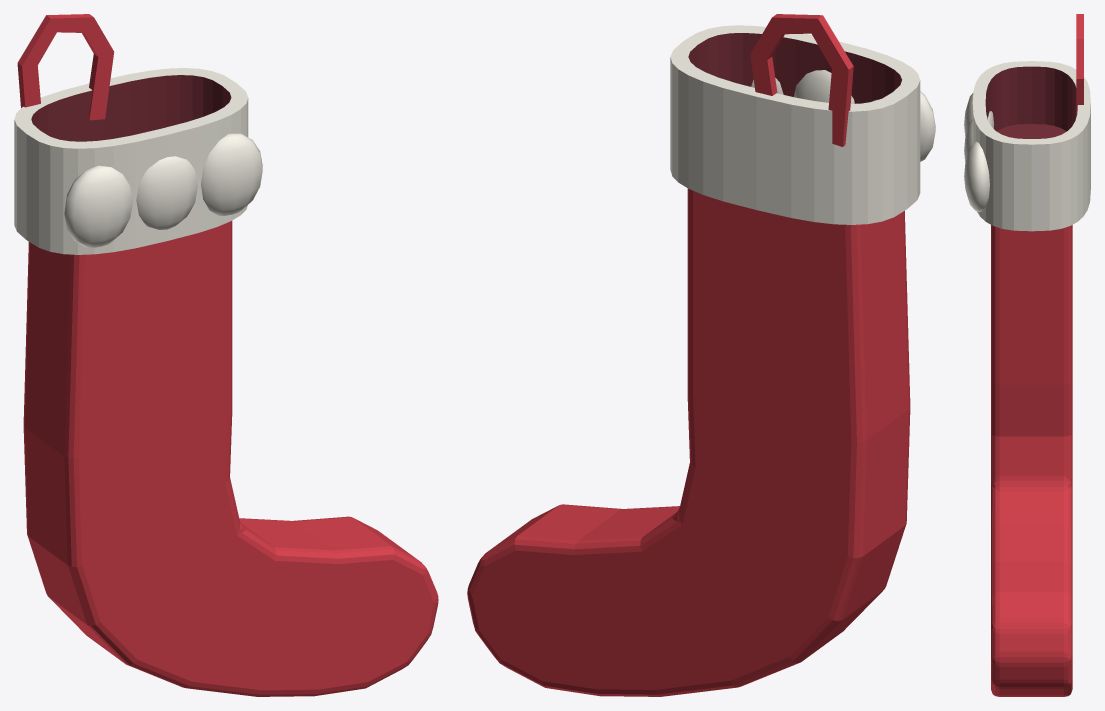
The model's file is christmas_stocking_classic_red.glb.
The picture shows the model from 3 angles, left to right: view 1: azimuth 30°, elevation 25°; view 2: azimuth 150°, elevation 25°; view 3: azimuth 270°, elevation 25°; orthographic projection. The views are drawn at different scales.
Parts seen in each view (by area): view 1: ClassicStocking_Rounded_Boot, ClassicStocking_Open_Cuff, ClassicStocking_Soft_Cuff_Tuft, ClassicStocking_Attached_Hanging_Loop, ClassicStocking_Soft_Cuff_Tuft.002, ClassicStocking_Soft_Cuff_Tuft.001; view 2: ClassicStocking_Rounded_Boot, ClassicStocking_Open_Cuff, ClassicStocking_Attached_Hanging_Loop, ClassicStocking_Soft_Cuff_Tuft.001, ClassicStocking_Soft_Cuff_Tuft; view 3: ClassicStocking_Rounded_Boot, ClassicStocking_Open_Cuff, ClassicStocking_Soft_Cuff_Tuft.002, ClassicStocking_Recessed_Interior, ClassicStocking_Attached_Hanging_Loop, ClassicStocking_Soft_Cuff_Tuft, ClassicStocking_Soft_Cuff_Tuft.001.
Boxes of the visible parts, x1,y1,x2,y2 form: ClassicStocking_Rounded_Boot: [23, 221, 438, 696]; ClassicStocking_Open_Cuff: [14, 68, 248, 254]; ClassicStocking_Soft_Cuff_Tuft: [64, 165, 132, 247]; ClassicStocking_Attached_Hanging_Loop: [17, 14, 114, 120]; ClassicStocking_Soft_Cuff_Tuft.002: [201, 133, 262, 215]; ClassicStocking_Soft_Cuff_Tuft.001: [136, 156, 197, 229]; ClassicStocking_Rounded_Boot: [467, 188, 910, 696]; ClassicStocking_Open_Cuff: [670, 25, 920, 224]; ClassicStocking_Attached_Hanging_Loop: [750, 14, 853, 146]; ClassicStocking_Soft_Cuff_Tuft.001: [794, 70, 854, 103]; ClassicStocking_Soft_Cuff_Tuft: [871, 91, 935, 161]; ClassicStocking_Rounded_Boot: [991, 225, 1072, 696]; ClassicStocking_Open_Cuff: [972, 61, 1090, 231]; ClassicStocking_Soft_Cuff_Tuft.002: [964, 141, 989, 211]; ClassicStocking_Recessed_Interior: [997, 124, 1066, 138]; ClassicStocking_Attached_Hanging_Loop: [1076, 14, 1083, 116]; ClassicStocking_Soft_Cuff_Tuft: [964, 93, 994, 136]; ClassicStocking_Soft_Cuff_Tuft.001: [964, 119, 973, 162].
Size of the model in its own units: 0.3126 by 0.535 by 0.1076.
